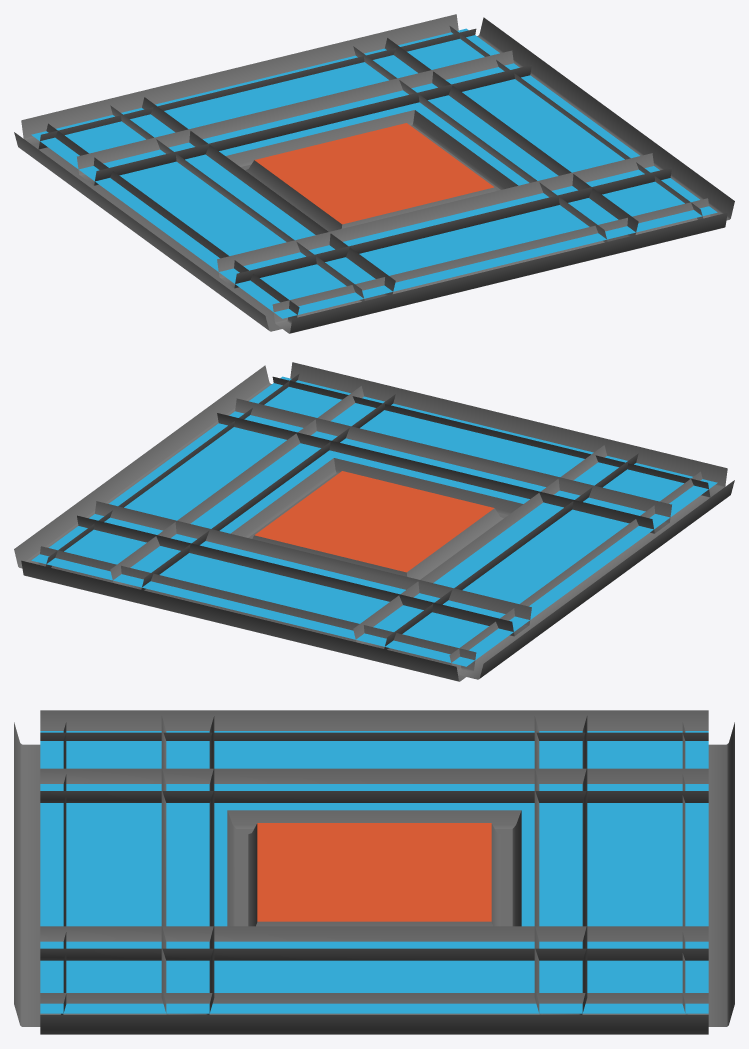
File: CeilingA.FBX
The picture shows the model from 3 angles, top to bottom: view 1: azimuth 30°, elevation 25°; view 2: azimuth 150°, elevation 25°; view 3: azimuth 270°, elevation 25°; orthographic projection. The views are drawn at different scales.
Visible parts, largest first — view 1: CeilingA; view 2: CeilingA; view 3: CeilingA.
Part boxes in pixels (<box>): CeilingA: <box>14,14,734,333</box>; CeilingA: <box>14,362,734,681</box>; CeilingA: <box>14,710,734,1034</box>.
Size of the model in its own units: 216 by 10.1 by 216.
